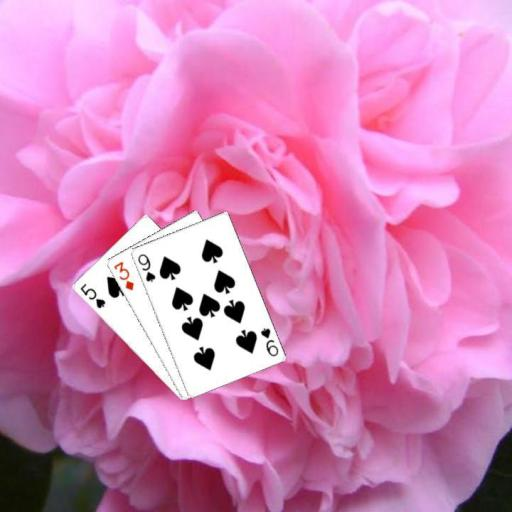3D: (110, 258, 135, 292)
5S: (77, 280, 107, 310)
9S: (135, 250, 157, 284), (258, 324, 280, 358)
